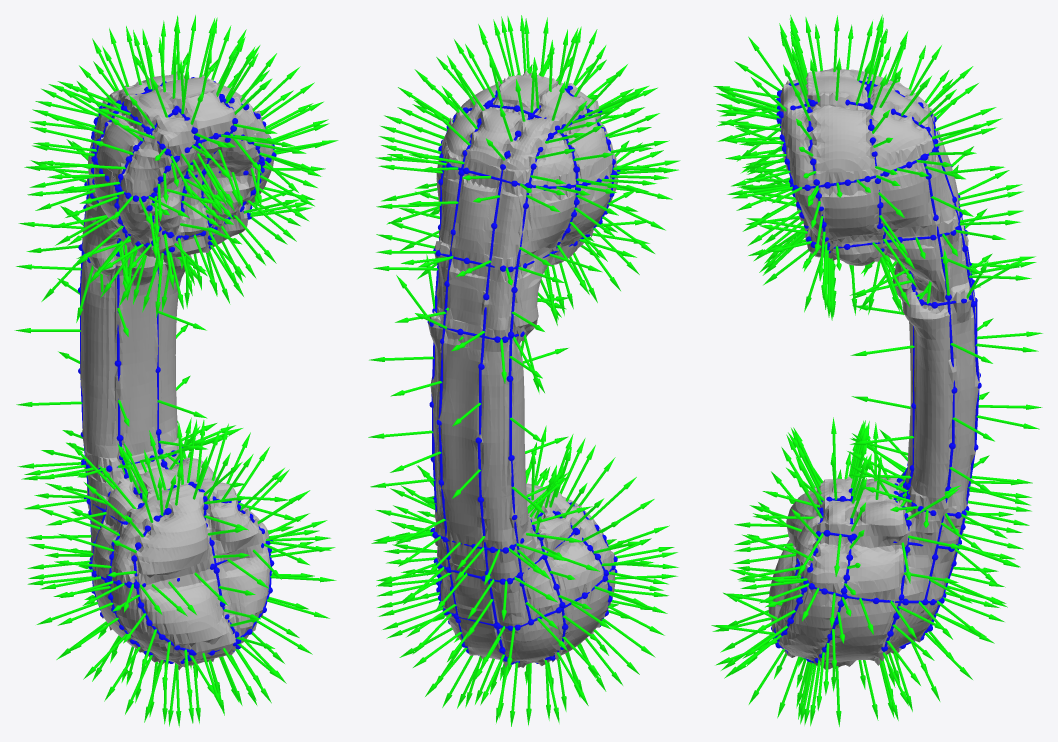
File: flowrep_phone.gltf
3 renders of one model, left to right at view 1: azimuth 30°, elevation 25°; view 2: azimuth 150°, elevation 25°; view 3: azimuth 270°, elevation 25°, orthographic.
Bounding box in the file's own units: 0.4614 × 1.11 × 0.4905.
